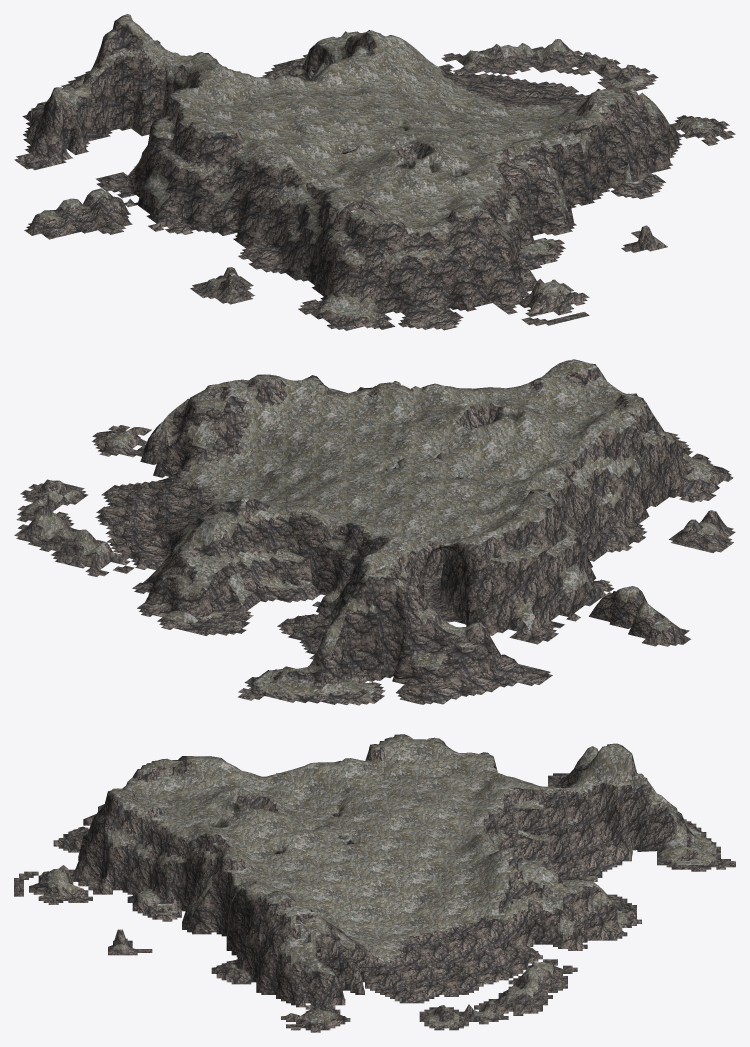
Rendered from PirateIsland.fbx.
The picture shows the model from 3 angles, top to bottom: view 1: azimuth 30°, elevation 25°; view 2: azimuth 150°, elevation 25°; view 3: azimuth 270°, elevation 25°; orthographic projection. The views are drawn at different scales.
Visible parts, largest first — view 1: IslandTerrain; view 2: IslandTerrain; view 3: IslandTerrain.
Boxes of the visible parts, bbox=[...] form: IslandTerrain: bbox=[14, 14, 735, 330]; IslandTerrain: bbox=[14, 359, 735, 705]; IslandTerrain: bbox=[14, 734, 735, 1032].
Bounding box in the file's own units: 5.52 × 0.778 × 5.84.
2 materials, 2 textured.
